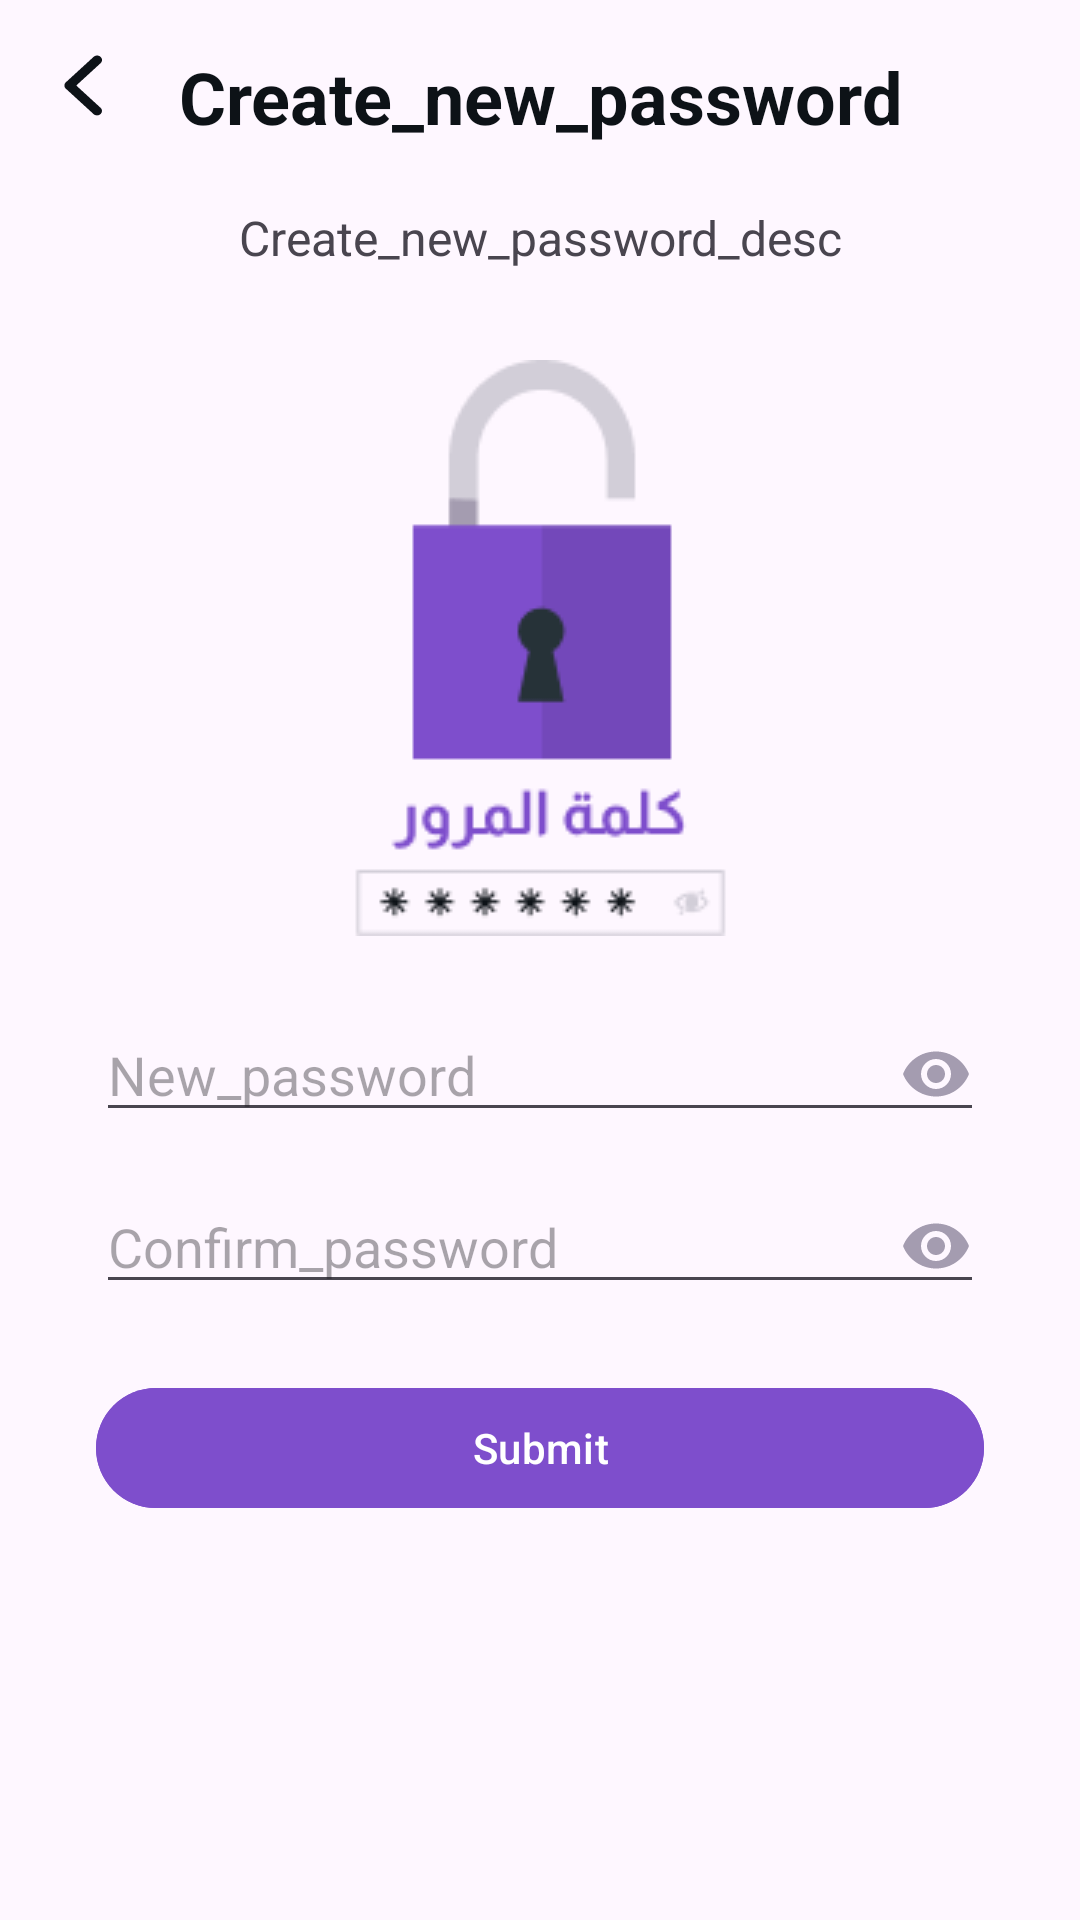

Point at icon controls on the screen. Image size 1080w x 1920h, points as (x,y).
back: (83,85)
